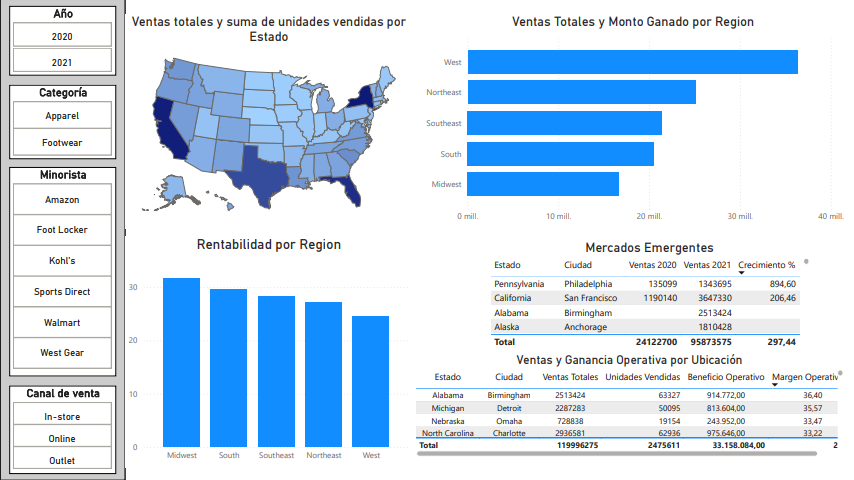

Layout of this report page (visuals, bound fields, positions):
{"tool":"powerbi","page":{"name":"Análisis Geográfico","canvas":[1280,720],"ordinal":2},"visuals":[{"type":"shape","box":[0,0,187.5,719.4],"z":0},{"type":"advancedSlicerVisual","fields":{"Values":["Adidas_US_2.Año"]},"box":[13.9,22.2,159.7,104.2],"z":1000},{"type":"advancedSlicerVisual","fields":{"Values":["Adidas_US_2.Category"]},"box":[13.9,141.7,159.7,111.1],"z":2000},{"type":"advancedSlicerVisual","fields":{"Values":["Adidas_US_2.Retailer"]},"box":[13.9,265.3,159.7,312.5],"z":3000},{"type":"shapeMap","title":"Ventas totales y suma de unidades vendidas por Estado","fields":{"Category":["Adidas_US_2.State"],"Value":["Adidas_US_2.Ventas Totales"],"Series":["Adidas_US_2.State"]},"box":[198.6,22.2,430.6,320.8],"z":4000},{"type":"lineStackedColumnComboChart","fields":{"Category":["Adidas_US_2.Region"],"Y":["Adidas_US_2.Ventas Totales"]},"box":[629.2,22.2,640.3,320.8],"z":5000},{"type":"columnChart","fields":{"Category":["Adidas_US_2.Region"],"Y":["Adidas_US_2.Rentabilidad"]},"box":[198.6,343.1,502.8,345.8],"z":6000},{"type":"tableEx","fields":{"Values":["Adidas_US_2.State","Adidas_US_2.City","Adidas_US_2.Ventas Totales","Adidas_US_2.Unidades Vendidas","Sum(Adidas_US_2.Operating Profit)"]},"box":[701.4,359.7,568.1,345.8],"z":7000},{"type":"image","box":[27.8,588.9,133.3,116.7],"z":7001}]}

Visuals, with their boxes in screenshot pixels (x1, y1, x2, y2), scaled from the page's 1280x720 canvas onto the 854x480 screenshot:
shape: box=[0, 0, 125, 479]
advancedSlicerVisual - Adidas_US_2.Año: box=[9, 15, 116, 84]
advancedSlicerVisual - Adidas_US_2.Category: box=[9, 94, 116, 169]
advancedSlicerVisual - Adidas_US_2.Retailer: box=[9, 177, 116, 385]
"Ventas totales y suma de unidades vendidas por Estado" shapeMap: box=[133, 15, 420, 229]
lineStackedColumnComboChart - Adidas_US_2.Region x Adidas_US_2.Ventas Totales: box=[420, 15, 847, 229]
columnChart - Adidas_US_2.Region x Adidas_US_2.Rentabilidad: box=[133, 229, 468, 459]
tableEx - Adidas_US_2.State x Adidas_US_2.City: box=[468, 240, 847, 470]
image: box=[19, 393, 107, 470]
